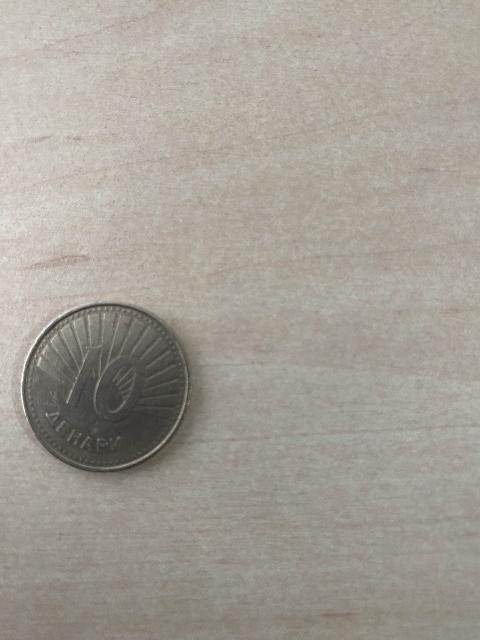coin: (23, 305, 190, 470)
